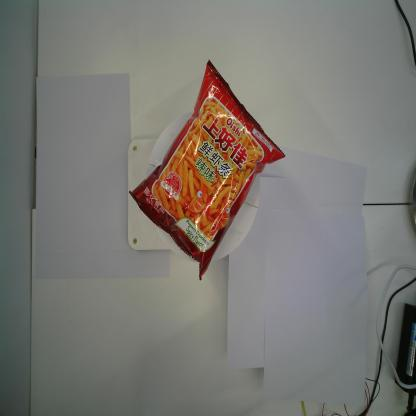Puffed Food: (128, 58, 286, 283)
